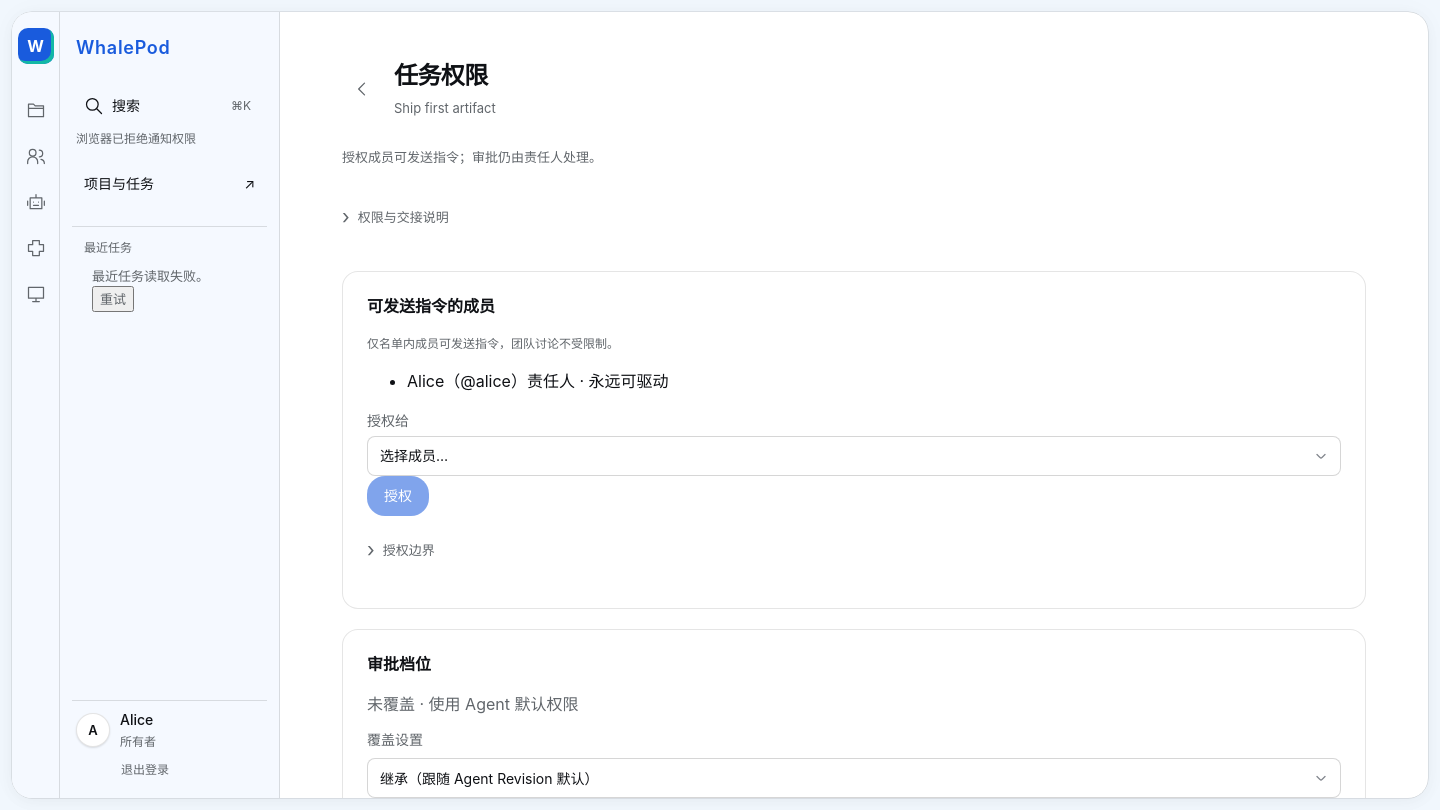
撤销后的旧页面（#321） › 权限页明确派发尝试与取消/交接边界
Click the heading "权限与交接说明". click: [395, 217]
box: left=342, top=199, right=449, bottom=235
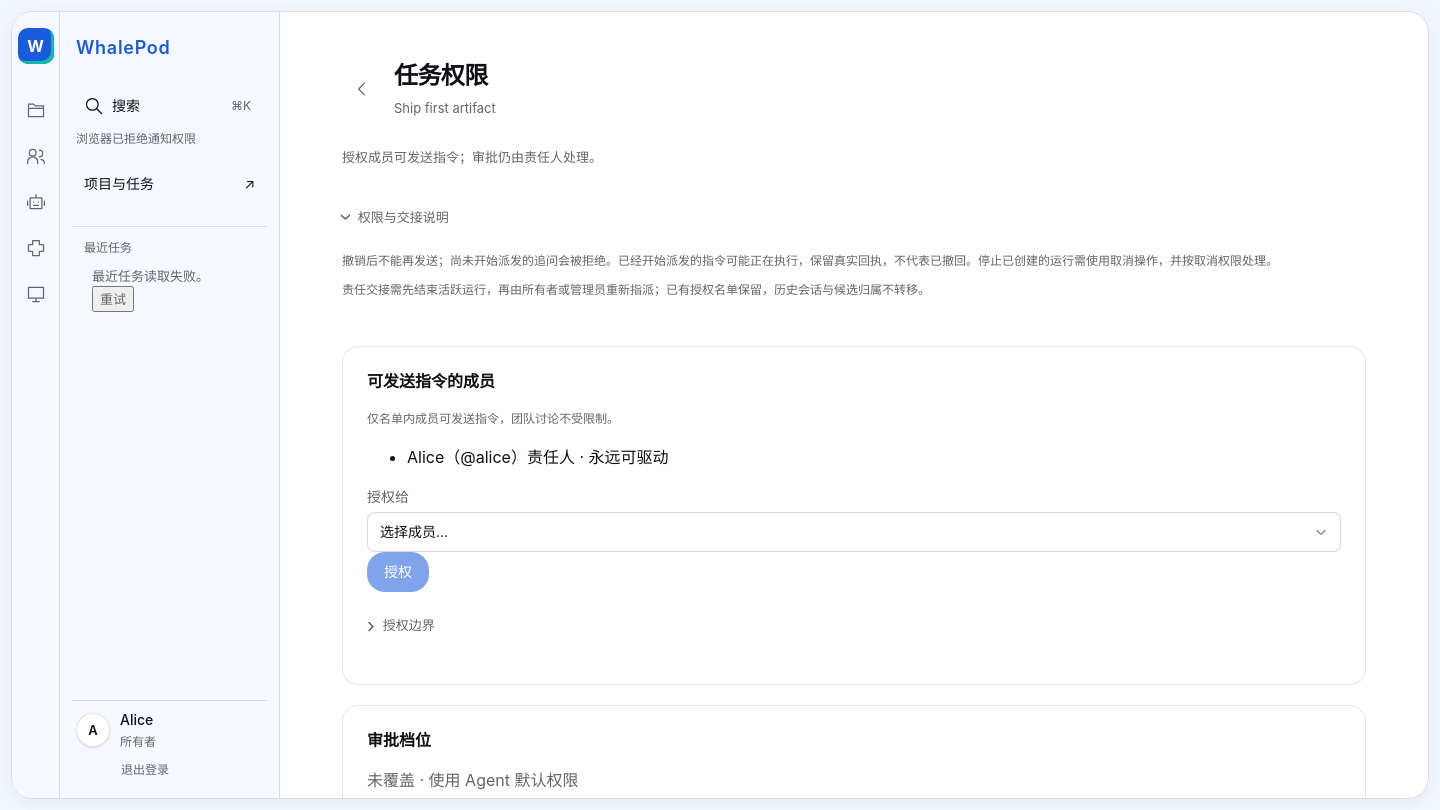
Now the text with test id "instruction-revocation-rule" shows "尚未开始派发的追问会被拒绝", box left=342, top=253, right=1278, bottom=268
Now the text with test id "instruction-revocation-rule" shows "不代表已撤回", box left=342, top=253, right=1278, bottom=268
Now the text "责任交接需先结束活跃运行，再由所有者或管理员重新指派；已有授权名单保留，历史会话与候选归属不转移。" is shown, box left=342, top=282, right=930, bottom=298
